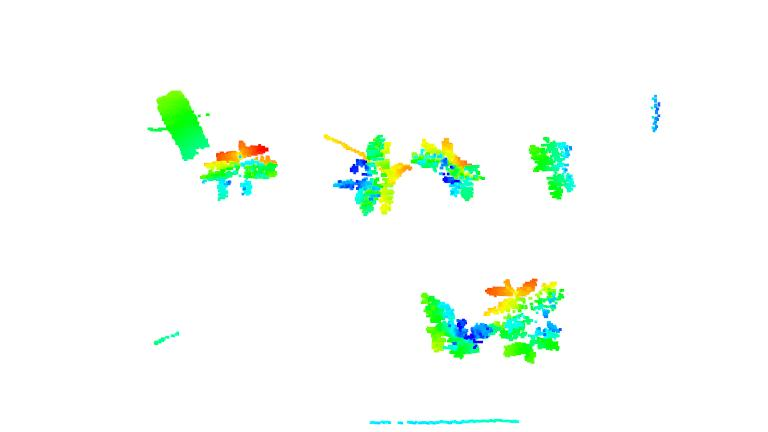chickpea: (483, 276, 569, 364), (333, 134, 415, 214), (411, 135, 487, 201), (197, 141, 281, 200), (416, 291, 487, 359), (526, 134, 581, 202)
